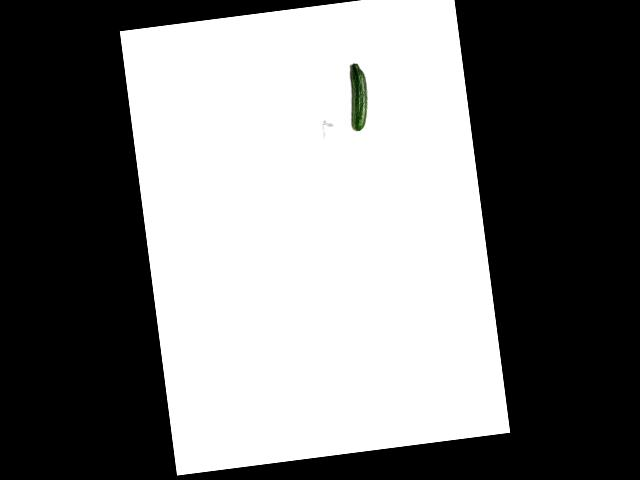cucumber: (344, 62, 371, 132)
